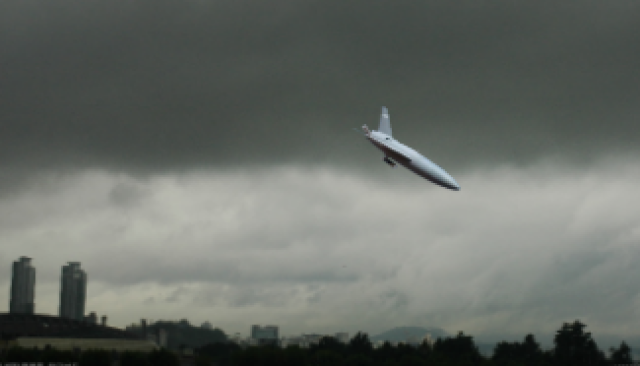military drone: (352, 106, 461, 192)
